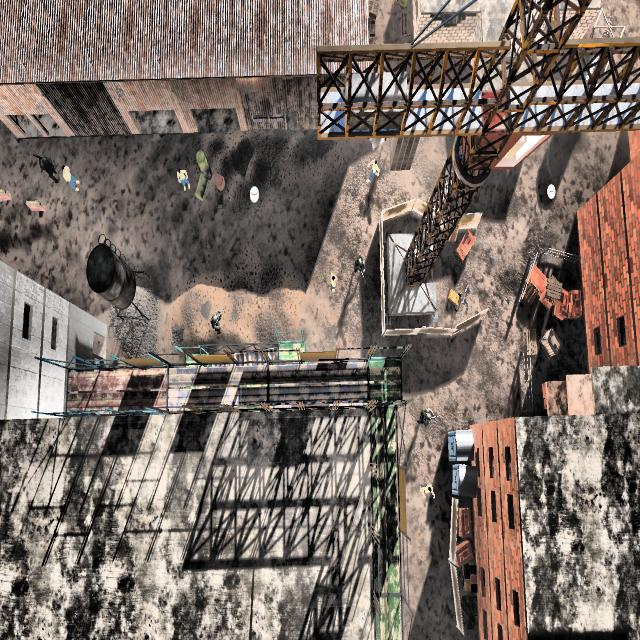bad: (37, 143, 59, 192), (205, 304, 227, 344), (417, 396, 436, 438), (351, 248, 368, 282)
good: (169, 162, 194, 202), (362, 152, 382, 190), (418, 471, 438, 506)
